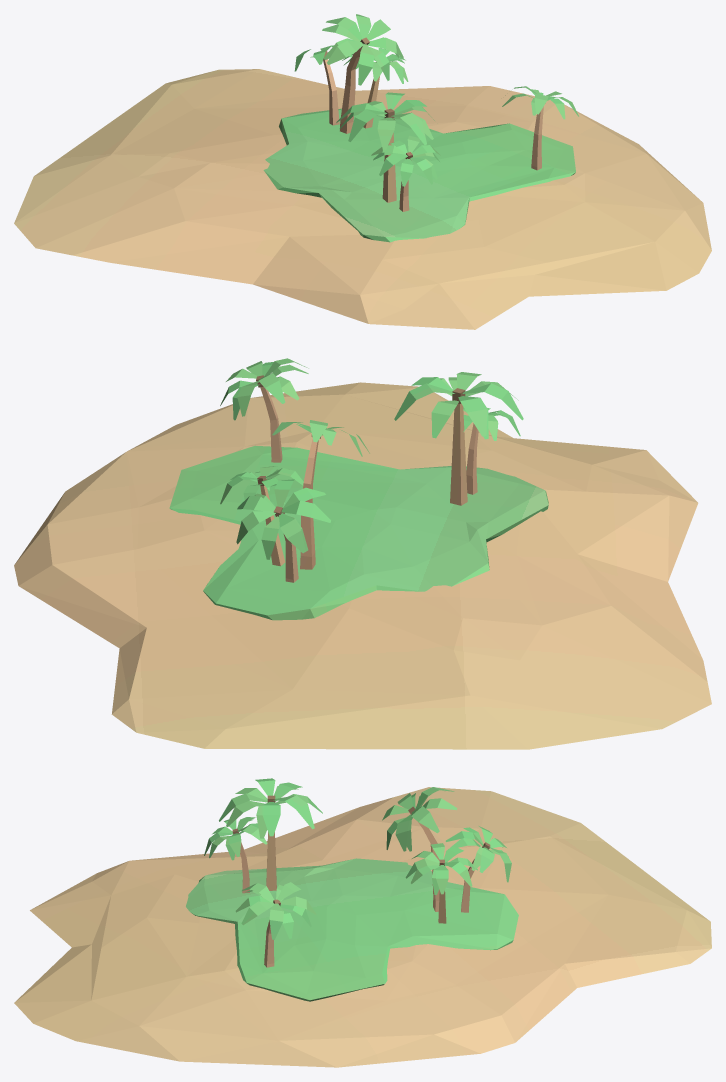
The model's file is fG9iP5afr7U.glb.
3 renders of one model, top to bottom at view 1: azimuth 30°, elevation 25°; view 2: azimuth 150°, elevation 25°; view 3: azimuth 270°, elevation 25°, orthographic. The views are drawn at different scales.
Visible parts, largest first — view 1: Cube.003_Cube.002; view 2: Cube.003_Cube.002; view 3: Cube.003_Cube.002.
Boxes of the visible parts, box(x1,y1,x2,y2) form: Cube.003_Cube.002: box(14, 14, 711, 329); Cube.003_Cube.002: box(14, 358, 711, 749); Cube.003_Cube.002: box(14, 778, 711, 1067).
Bounding box in the file's own units: 3.85 × 0.9999 × 4.05.
Materials: 1 (1 with a texture image).
